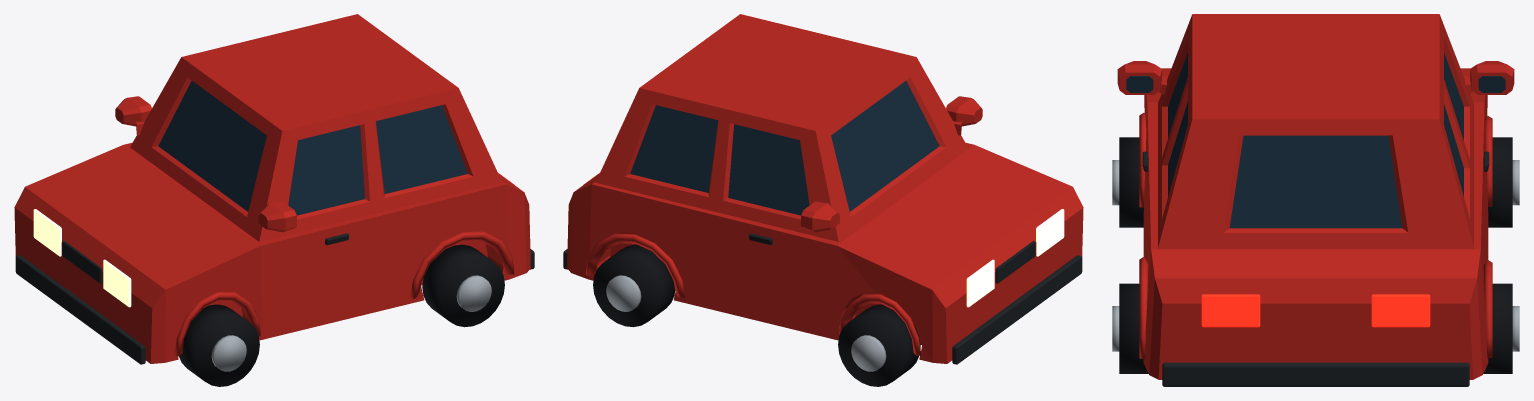
Rendered from car_concept_final.glb.
The picture shows the model from 3 angles, left to right: view 1: azimuth 30°, elevation 25°; view 2: azimuth 150°, elevation 25°; view 3: azimuth 270°, elevation 25°; orthographic projection. The views are drawn at different scales.
Parts seen in each view (by area): view 1: Car_Hull, Proxy_Wheel_RL, Proxy_Wheel_FL, Bumper_Front, Fender_Eyebrow_RL, Fender_Eyebrow_FL, Hub_RL, Hub_FL, Mirror_Housing_L, Light_Head_-0.42, Light_Head_0.42, Mirror_Housing_R (+1 smaller); view 2: Car_Hull, Proxy_Wheel_RR, Proxy_Wheel_FR, Bumper_Front, Fender_Eyebrow_RR, Fender_Eyebrow_FR, Hub_RR, Hub_FR, Mirror_Housing_R, Light_Head_0.42, Light_Head_-0.42, Mirror_Housing_L (+1 smaller); view 3: Car_Hull, Bumper_Rear, Light_Tail_0.42, Light_Tail_-0.42, Proxy_Wheel_RR, Proxy_Wheel_RL, Proxy_Wheel_FR, Proxy_Wheel_FL, Mirror_Housing_L, Mirror_Housing_R, Fender_Eyebrow_RL, Fender_Eyebrow_RR (+8 smaller).
Boxes of the visible parts, <box> form: Car_Hull: <box>14,14,530,363</box>; Proxy_Wheel_RL: <box>422,244,504,327</box>; Proxy_Wheel_FL: <box>179,304,259,386</box>; Bumper_Front: <box>15,255,145,364</box>; Fender_Eyebrow_RL: <box>410,231,514,298</box>; Fender_Eyebrow_FL: <box>174,292,260,356</box>; Hub_RL: <box>456,275,491,311</box>; Hub_FL: <box>211,335,246,371</box>; Mirror_Housing_L: <box>259,201,296,232</box>; Light_Head_-0.42: <box>103,259,131,307</box>; Light_Head_0.42: <box>33,209,61,256</box>; Mirror_Housing_R: <box>115,96,151,126</box>; Car_Hull: <box>567,14,1083,363</box>; Proxy_Wheel_RR: <box>593,244,675,327</box>; Proxy_Wheel_FR: <box>838,304,920,386</box>; Bumper_Front: <box>952,255,1082,364</box>; Fender_Eyebrow_RR: <box>585,233,685,298</box>; Fender_Eyebrow_FR: <box>839,294,921,356</box>; Hub_RR: <box>606,275,641,311</box>; Hub_FR: <box>851,335,886,371</box>; Mirror_Housing_R: <box>801,201,838,232</box>; Light_Head_0.42: <box>966,259,994,307</box>; Light_Head_-0.42: <box>1036,209,1064,256</box>; Mirror_Housing_L: <box>946,96,982,126</box>; Car_Hull: <box>1143,14,1488,379</box>; Bumper_Rear: <box>1162,362,1469,386</box>; Light_Tail_0.42: <box>1371,294,1430,327</box>; Light_Tail_-0.42: <box>1201,294,1260,327</box>; Proxy_Wheel_RR: <box>1483,283,1512,373</box>; Proxy_Wheel_RL: <box>1119,283,1148,373</box>; Proxy_Wheel_FR: <box>1488,137,1512,227</box>; Proxy_Wheel_FL: <box>1119,137,1143,227</box>; Mirror_Housing_L: <box>1117,61,1161,94</box>; Mirror_Housing_R: <box>1470,61,1514,94</box>; Fender_Eyebrow_RL: <box>1139,257,1148,358</box>; Fender_Eyebrow_RR: <box>1483,260,1492,358</box>.
Size of the model in its own units: 2.97 by 1.53 by 2.17.
